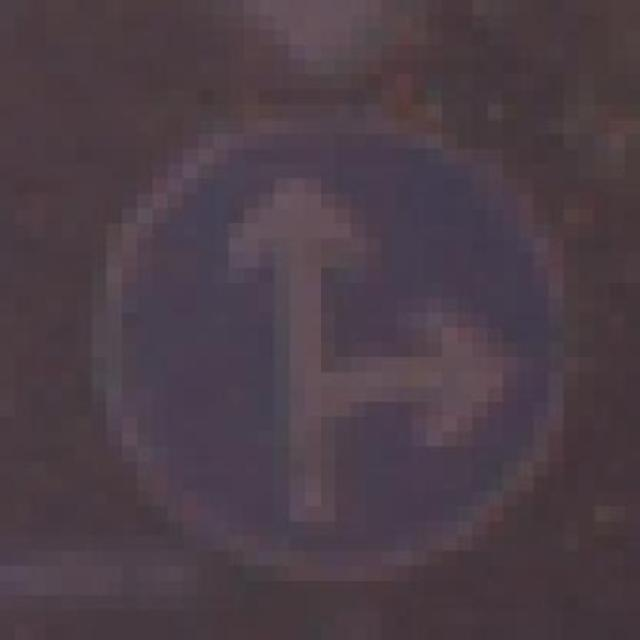Go Straight or Turn Right: (46, 104, 594, 596)
